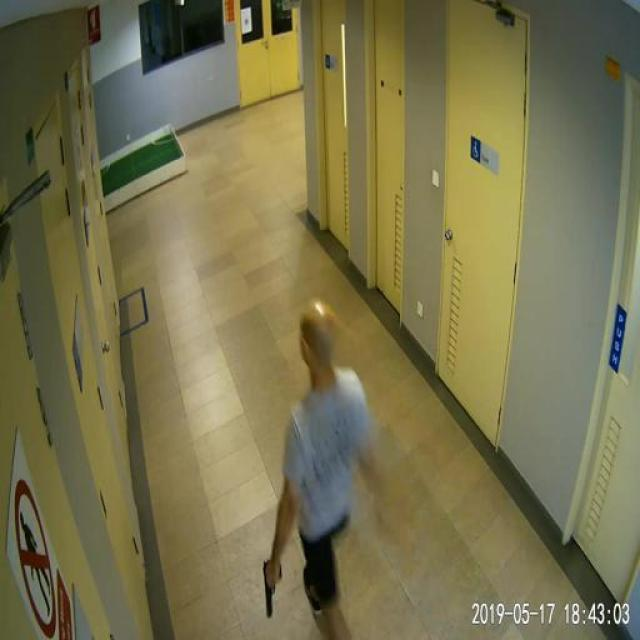Gun: (248, 550, 292, 622)
